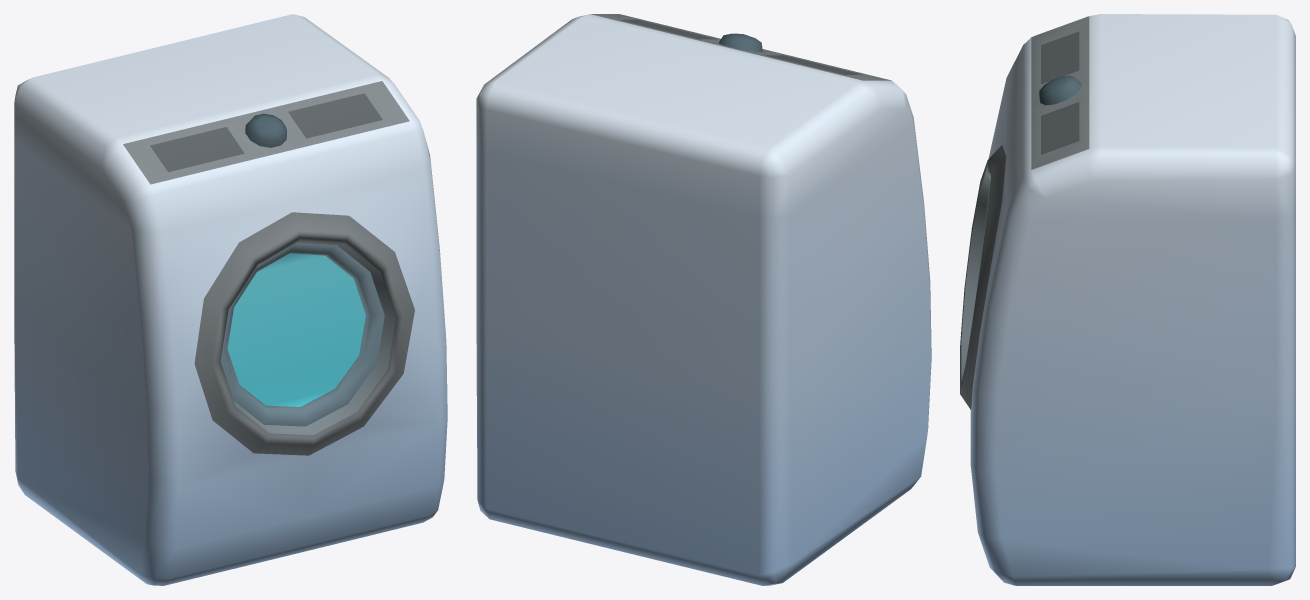
Rendered from Furniture_Electrical_01.fbx.
The picture shows the model from 3 angles, left to right: view 1: azimuth 30°, elevation 25°; view 2: azimuth 150°, elevation 25°; view 3: azimuth 270°, elevation 25°; orthographic projection. The views are drawn at different scales.
Parts seen in each view (by area): view 1: Furniture_Electrical_01; view 2: Furniture_Electrical_01; view 3: Furniture_Electrical_01.
Boxes of the visible parts, x1,y1,x2,y2 form: Furniture_Electrical_01: (14, 14, 447, 585); Furniture_Electrical_01: (476, 14, 931, 585); Furniture_Electrical_01: (960, 14, 1295, 585).
Size of the model in its own units: 100 by 134 by 93.1.
